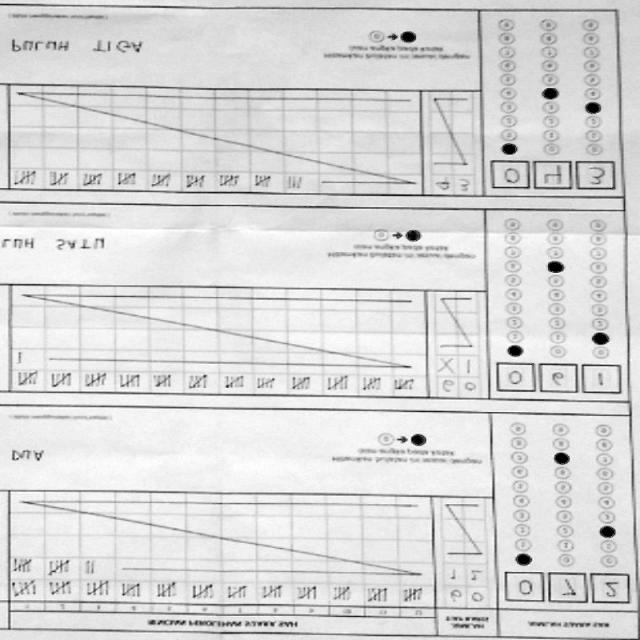Suara: (500, 568, 633, 607), (494, 362, 618, 397), (490, 163, 612, 197)
